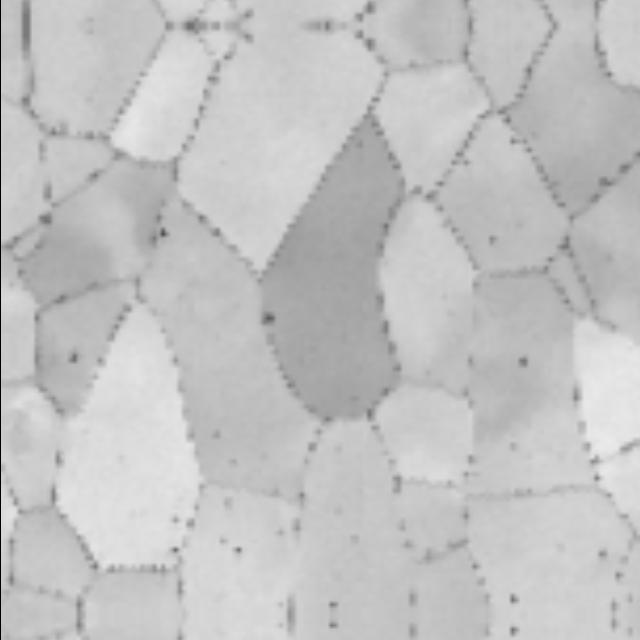good_void: (514, 347, 537, 370), (257, 310, 276, 327), (227, 539, 244, 557), (153, 222, 172, 238), (505, 590, 521, 608), (505, 621, 521, 639), (593, 547, 609, 563), (64, 348, 80, 363), (322, 598, 339, 612), (322, 617, 339, 631)
